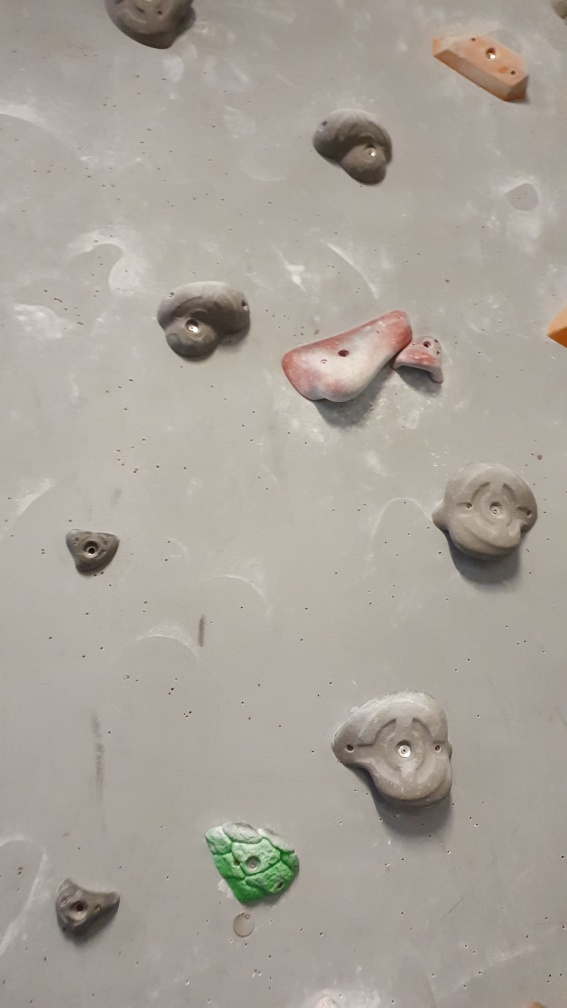Crimp: (66, 526, 124, 577)
Hand Start: (229, 909, 264, 942)
Jug: (329, 690, 458, 813), (428, 460, 539, 573), (156, 279, 253, 367), (314, 109, 398, 187)
Pinch: (430, 31, 533, 105)
